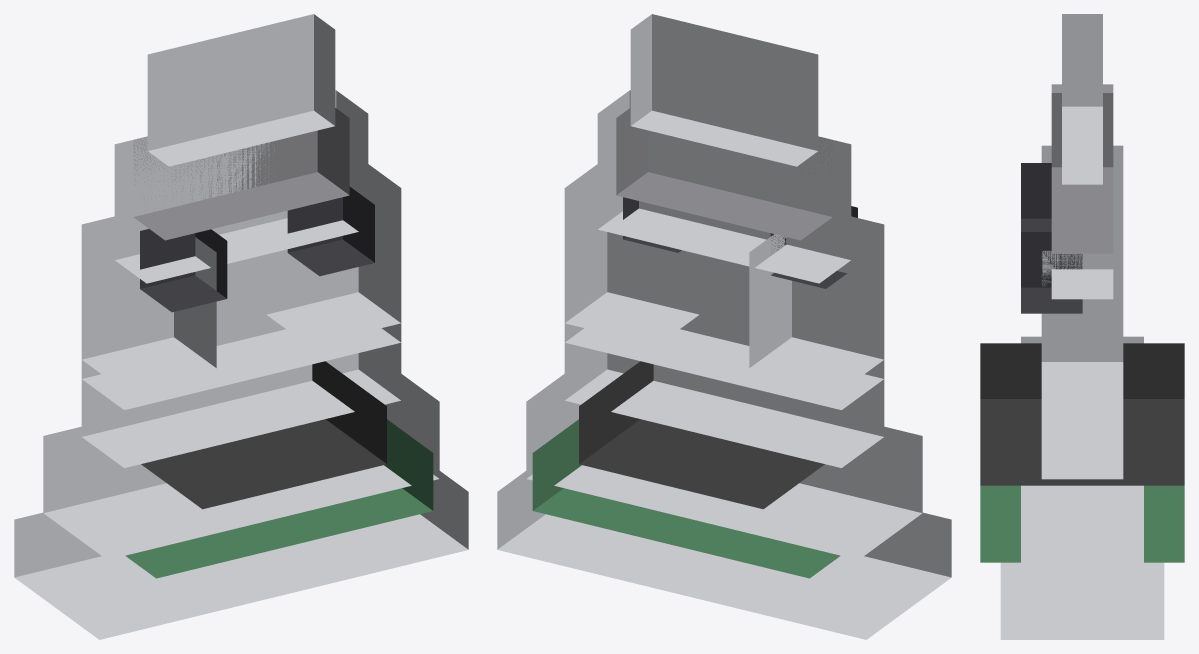
The model's file is head_module.gltf.
3 renders of one model, left to right at view 1: azimuth 30°, elevation 25°; view 2: azimuth 150°, elevation 25°; view 3: azimuth 270°, elevation 25°, orthographic. The views are drawn at different scales.
Parts seen in each view (by area): view 1: head_module; view 2: head_module; view 3: head_module.
Boxes of the visible parts, left/top/right/bottom form: head_module: left=14, top=14, right=468, bottom=639; head_module: left=497, top=14, right=951, bottom=639; head_module: left=980, top=14, right=1184, bottom=639.
Bounding box in the file's own units: 0.04 × 0.054 × 0.02.
